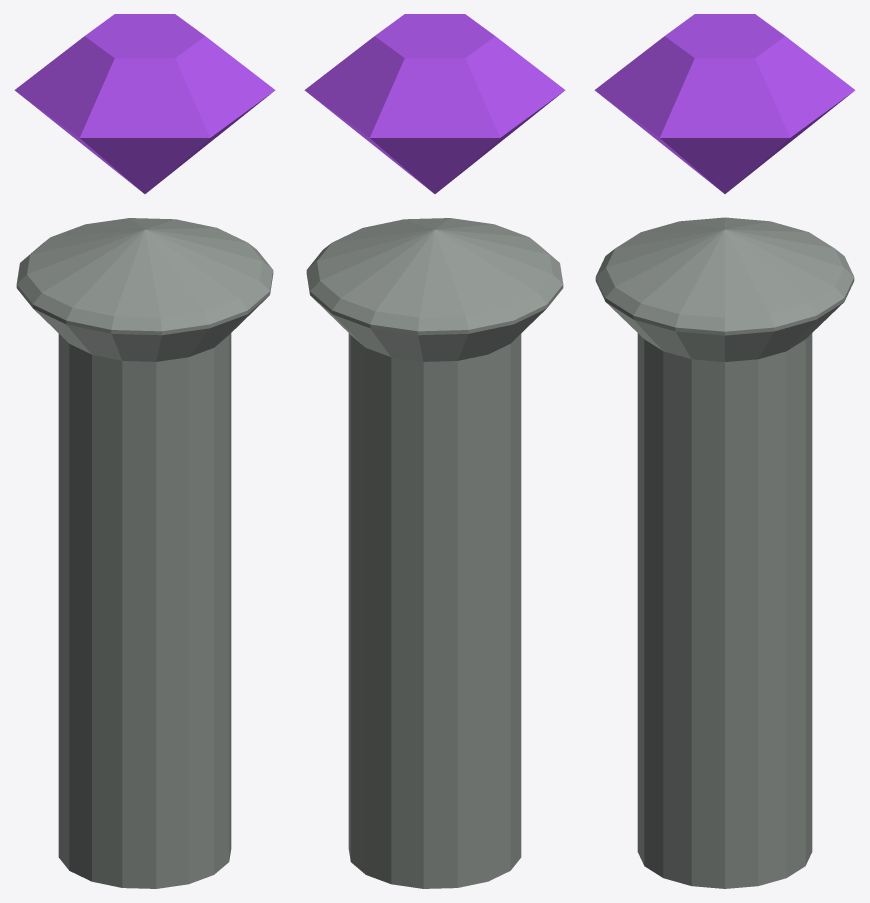
Rendered from Gemstone.fbx.
3 views of the same model, side by side, from view 1: azimuth 30°, elevation 25°; view 2: azimuth 150°, elevation 25°; view 3: azimuth 270°, elevation 25° (orthographic).
Visible parts, largest first — view 1: Cylinder, Cone; view 2: Cylinder, Cone; view 3: Cylinder, Cone.
Boxes of the visible parts, <box> form: Cylinder: <box>16,218,273,888</box>; Cone: <box>14,14,275,193</box>; Cylinder: <box>306,218,563,888</box>; Cone: <box>304,14,565,193</box>; Cylinder: <box>595,217,854,888</box>; Cone: <box>594,14,855,193</box>.
Bounding box in the file's own units: 89.04 × 310 × 89.81.
